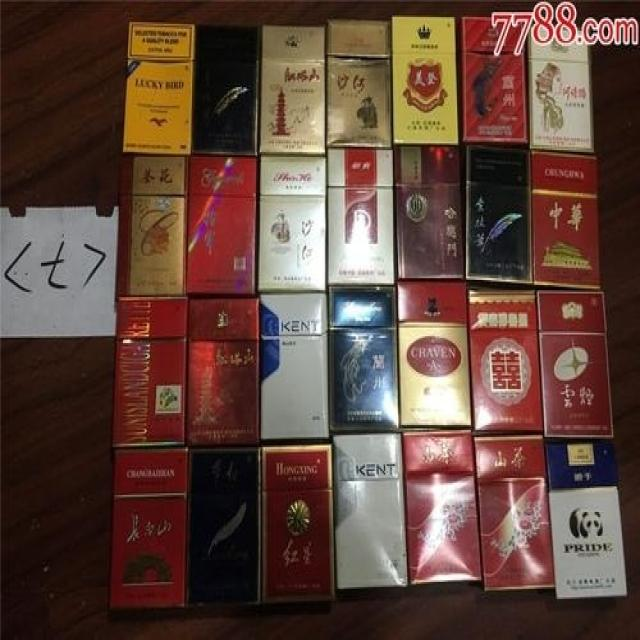box: (474, 435, 556, 591), (548, 442, 628, 601), (403, 428, 483, 585), (110, 447, 188, 606), (187, 444, 262, 606), (110, 297, 188, 447), (333, 433, 407, 589), (538, 288, 613, 439), (264, 444, 335, 602), (467, 288, 543, 432), (187, 297, 260, 445), (398, 280, 471, 427), (260, 294, 330, 444), (328, 285, 398, 432), (187, 155, 259, 297), (115, 154, 187, 295), (120, 22, 196, 155), (530, 152, 602, 290), (326, 147, 396, 285), (257, 155, 326, 294), (394, 145, 465, 280), (465, 143, 532, 285), (456, 17, 529, 145), (526, 22, 595, 155), (193, 22, 260, 155), (392, 15, 460, 145), (325, 19, 392, 148), (260, 24, 326, 154)
